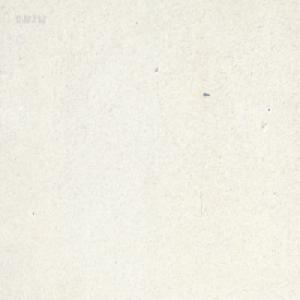Nail: (202, 92, 209, 97)
